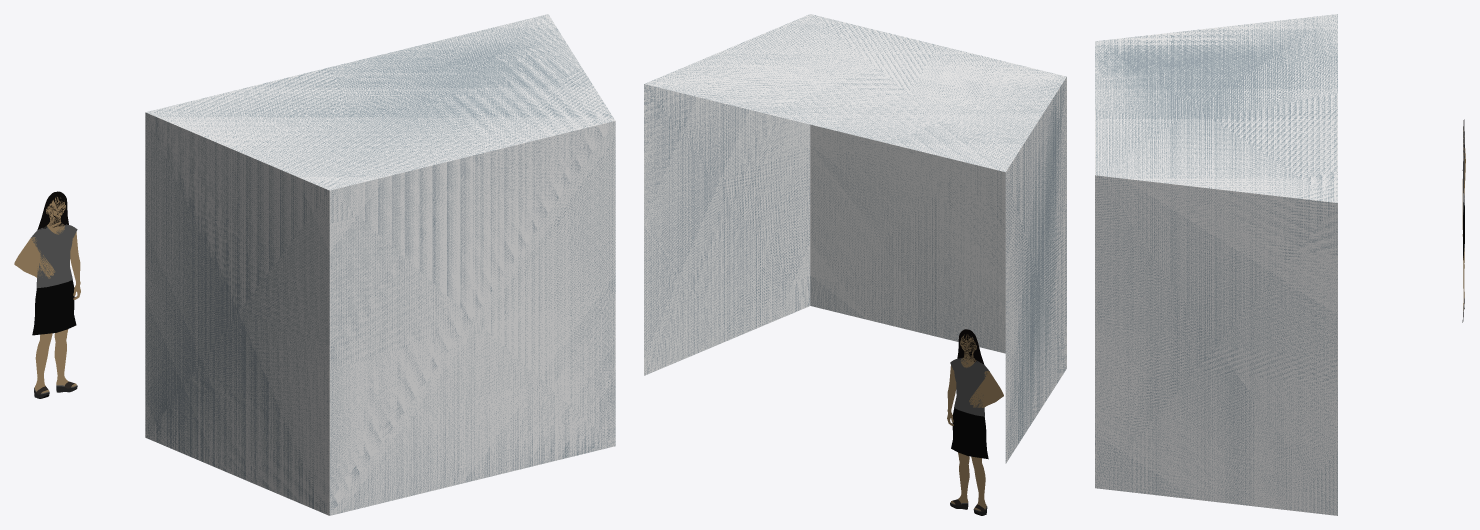
File: Alcove.fbx
3 views of the same model, side by side, from view 1: azimuth 30°, elevation 25°; view 2: azimuth 150°, elevation 25°; view 3: azimuth 270°, elevation 25° (orthographic). The views are drawn at different scales.
Visible parts, largest first — view 1: Model, Sophie1; view 2: Model, Sophie1; view 3: Model, Sophie1.
Part boxes in pixels (<box>): Model: <box>145,14,615,515</box>; Sophie1: <box>14,191,80,398</box>; Model: <box>644,14,1066,463</box>; Sophie1: <box>947,329,1003,515</box>; Model: <box>1095,14,1337,515</box>; Sophie1: <box>1462,119,1465,322</box>.
Bounding box in the file's own units: 4060 × 2700 × 2900.
